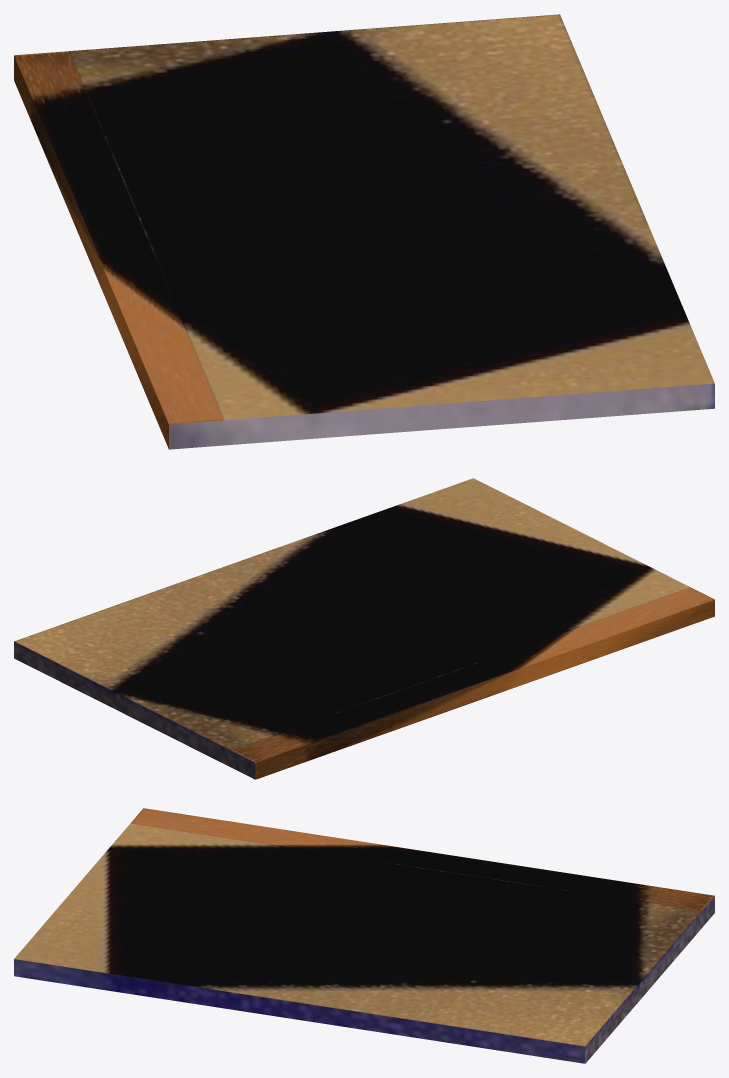
Rendered from notebook_bottom.glb.
3 renders of one model, top to bottom at view 1: azimuth 30°, elevation 25°; view 2: azimuth 150°, elevation 25°; view 3: azimuth 270°, elevation 25°, orthographic. The views are drawn at different scales.
Visible parts, largest first — view 1: notebook_bottom; view 2: notebook_bottom; view 3: notebook_bottom.
Part boxes in pixels (x1,y1,x2,y2): notebook_bottom: (14,14,714,449); notebook_bottom: (14,478,714,779); notebook_bottom: (14,808,714,1063).
Size of the model in its own units: 2.73 by 0.0919 by 3.39.
3 materials, 3 textured.
